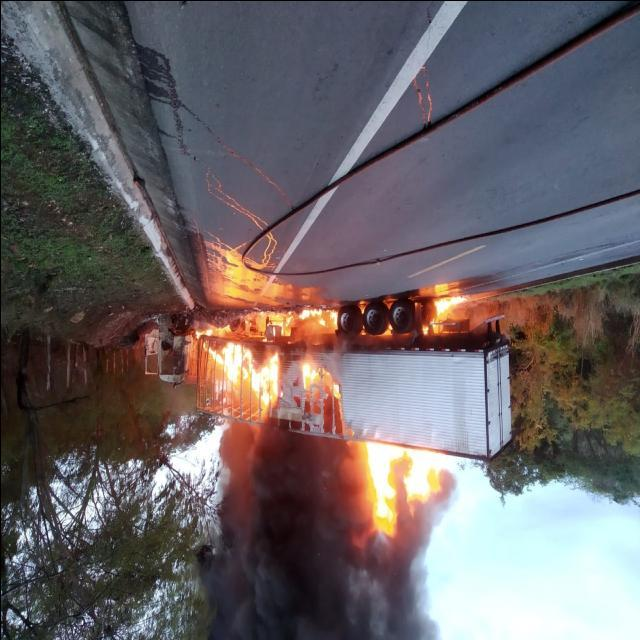Fire: (361, 439, 438, 532), (202, 342, 282, 404), (267, 308, 334, 336), (427, 296, 463, 332), (299, 362, 321, 389), (331, 381, 341, 401), (193, 328, 213, 338)
